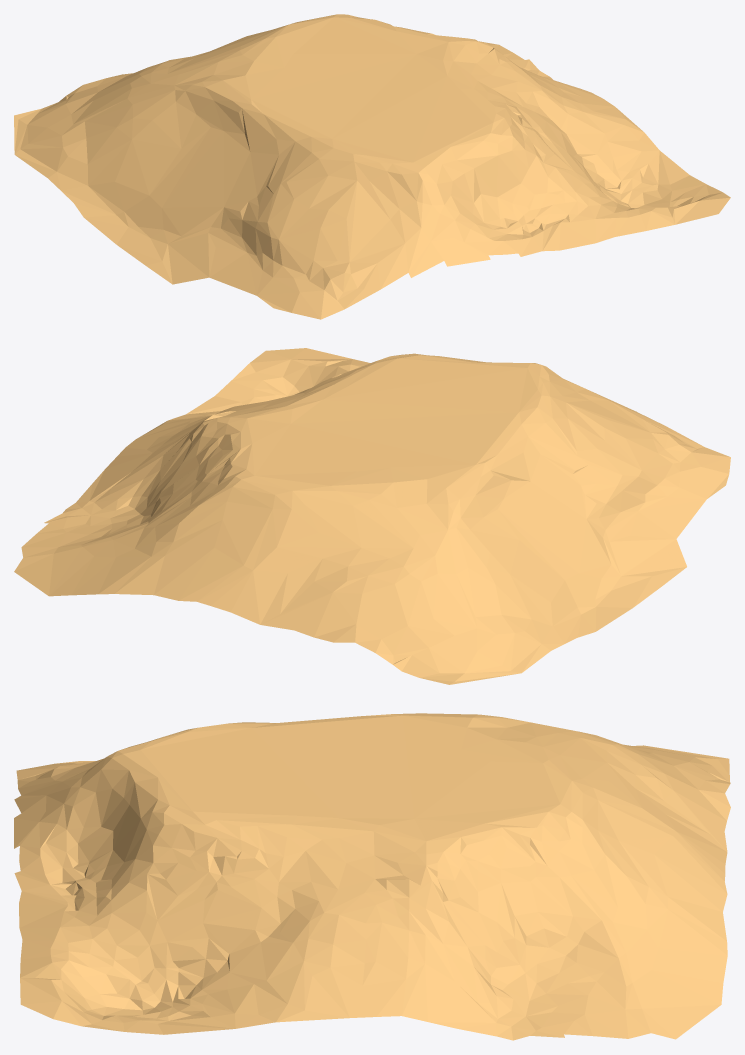
File: Terrain 12.FBX
3 views of the same model, one above another, from view 1: azimuth 30°, elevation 25°; view 2: azimuth 150°, elevation 25°; view 3: azimuth 270°, elevation 25° (orthographic). The views are drawn at different scales.
Parts seen in each view (by area): view 1: plane; view 2: plane; view 3: plane.
Part boxes in pixels (x1,y1,x2,y2): plane: (14,14,730,319); plane: (14,348,730,684); plane: (14,713,730,1040).
Bounding box in the file's own units: 88.17 × 18.84 × 90.76.
